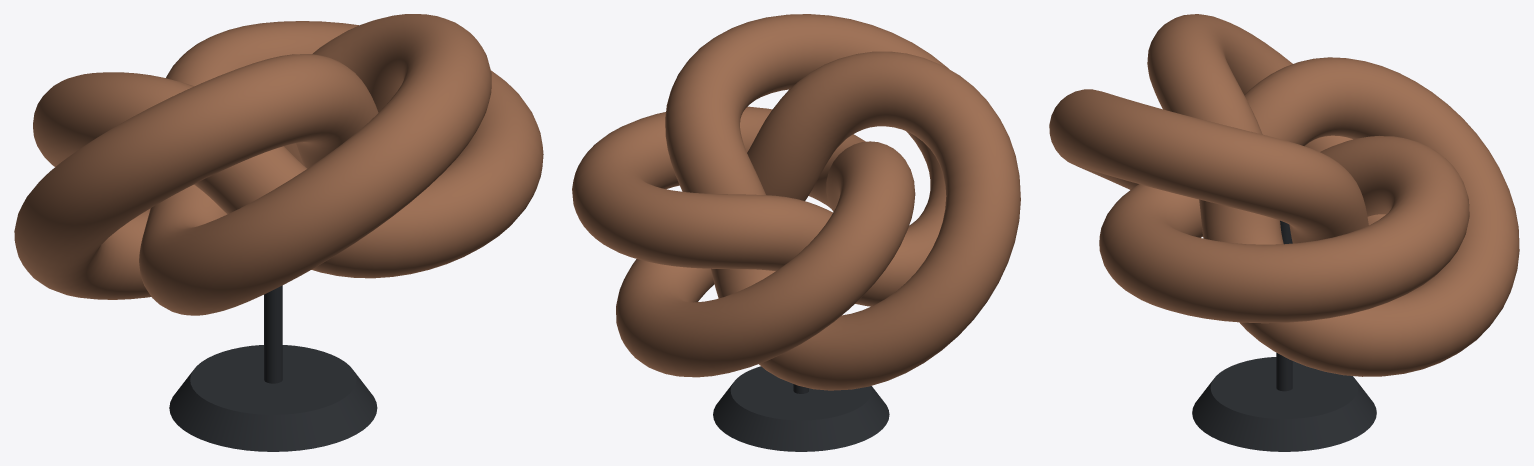
Rendered from knot.glb.
3 renders of one model, left to right at view 1: azimuth 30°, elevation 25°; view 2: azimuth 150°, elevation 25°; view 3: azimuth 270°, elevation 25°, orthographic. The views are drawn at different scales.
Visible parts, largest first — view 1: knot, base, rod; view 2: knot, base; view 3: knot, base, rod.
Part boxes in pixels (box(x1,y1,x2,y2)): knot: box(14, 14, 543, 315); base: box(169, 345, 377, 451); rod: box(264, 285, 282, 383); knot: box(572, 14, 1020, 390); base: box(713, 366, 889, 451); knot: box(1049, 14, 1519, 376); base: box(1192, 357, 1376, 451); rod: box(1276, 220, 1292, 391).
Bounding box in the file's own units: 1.07 × 0.8433 × 1.02.
